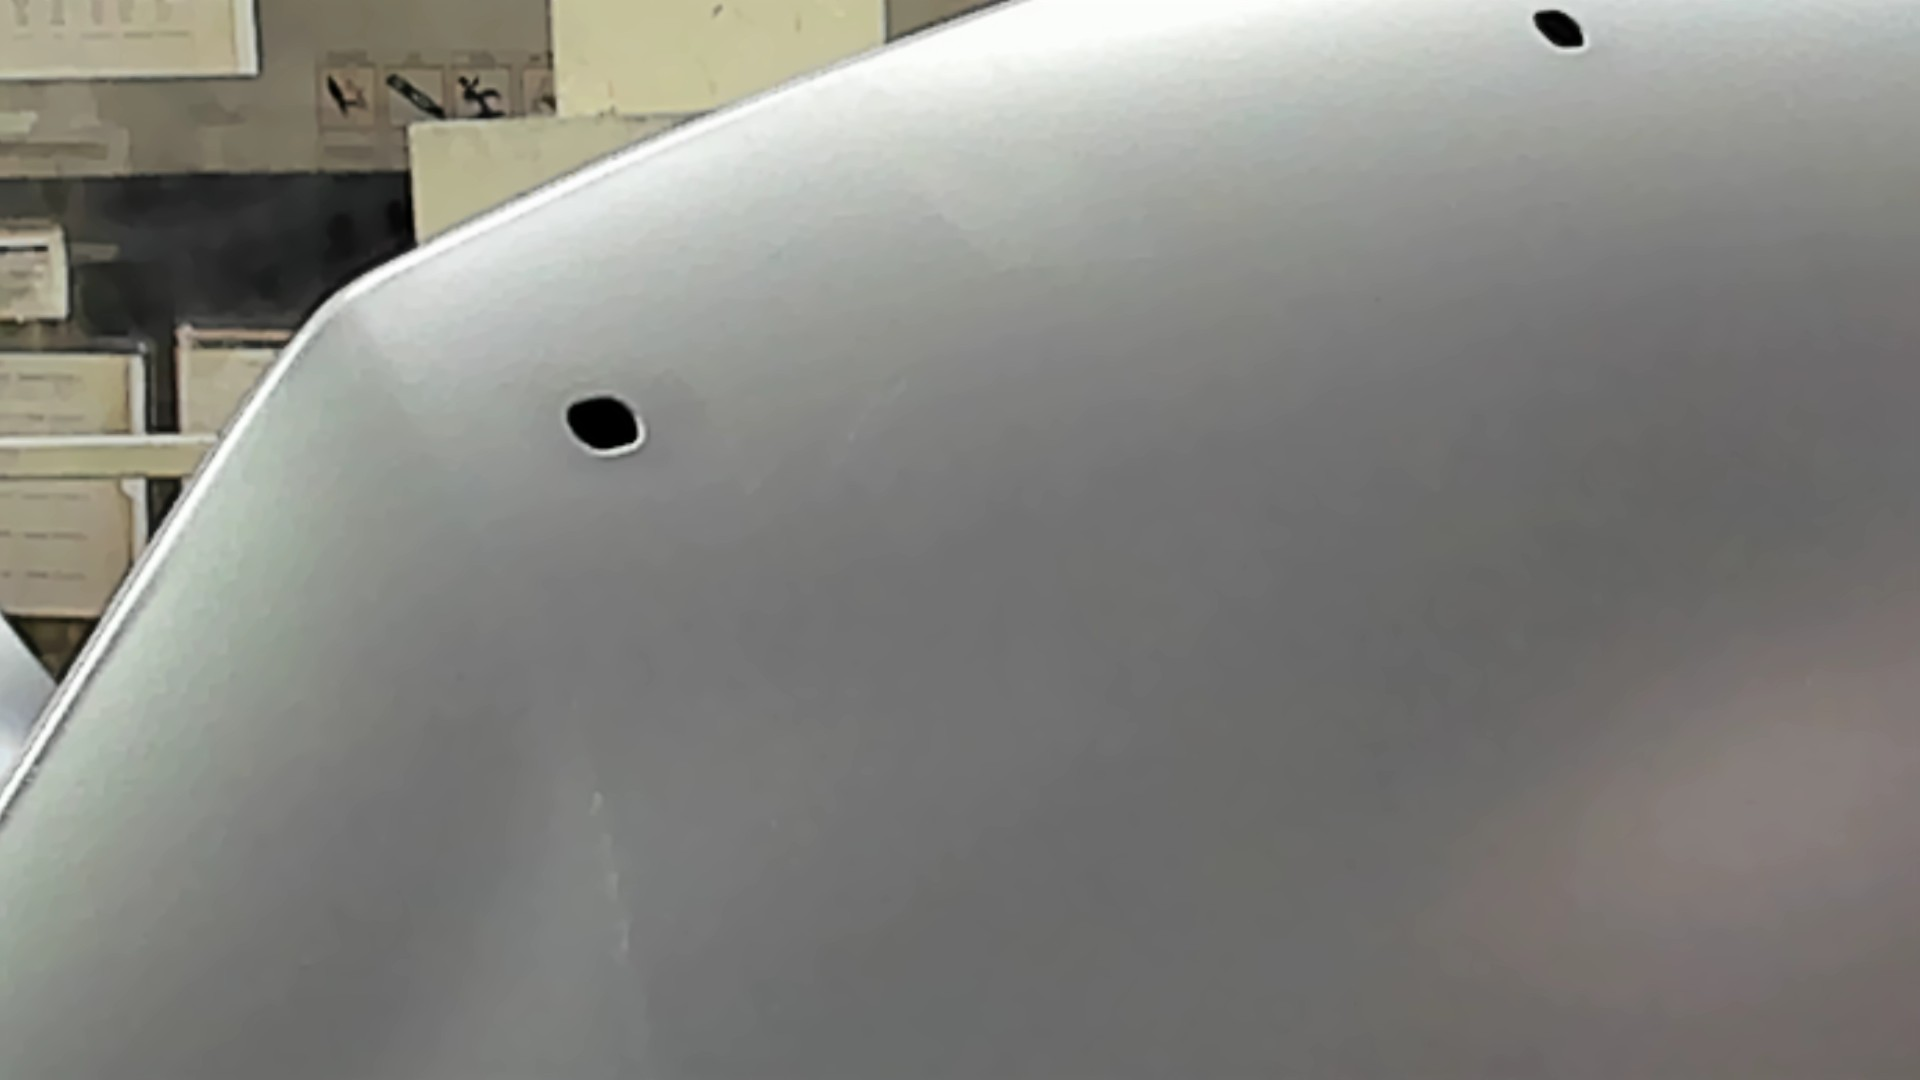amorfo: (560, 390, 647, 463), (1527, 5, 1593, 55)
capo: (781, 145, 1920, 1080)
